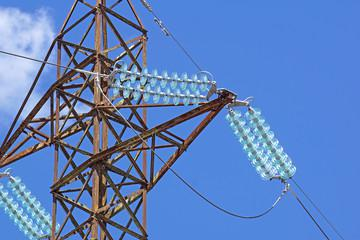isolator: (226, 107, 296, 181), (112, 62, 207, 107), (1, 176, 61, 240)
